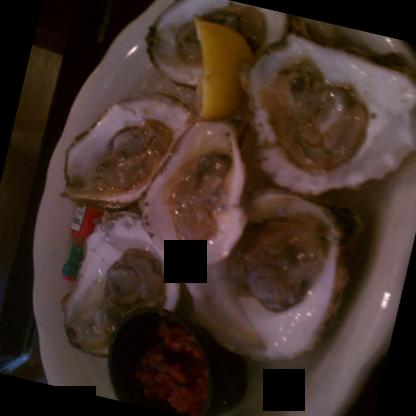oyster: (227, 24, 415, 212), (186, 167, 354, 372), (50, 209, 193, 371), (130, 102, 262, 271), (54, 76, 180, 218)
